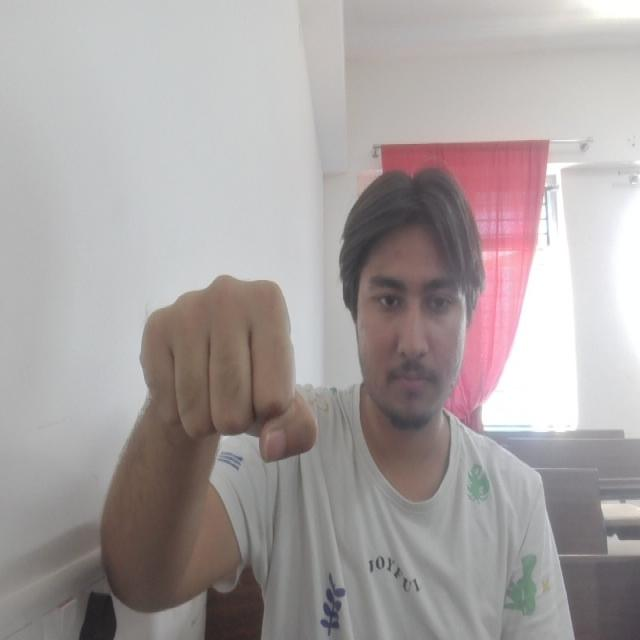yes: (135, 271, 322, 466)
